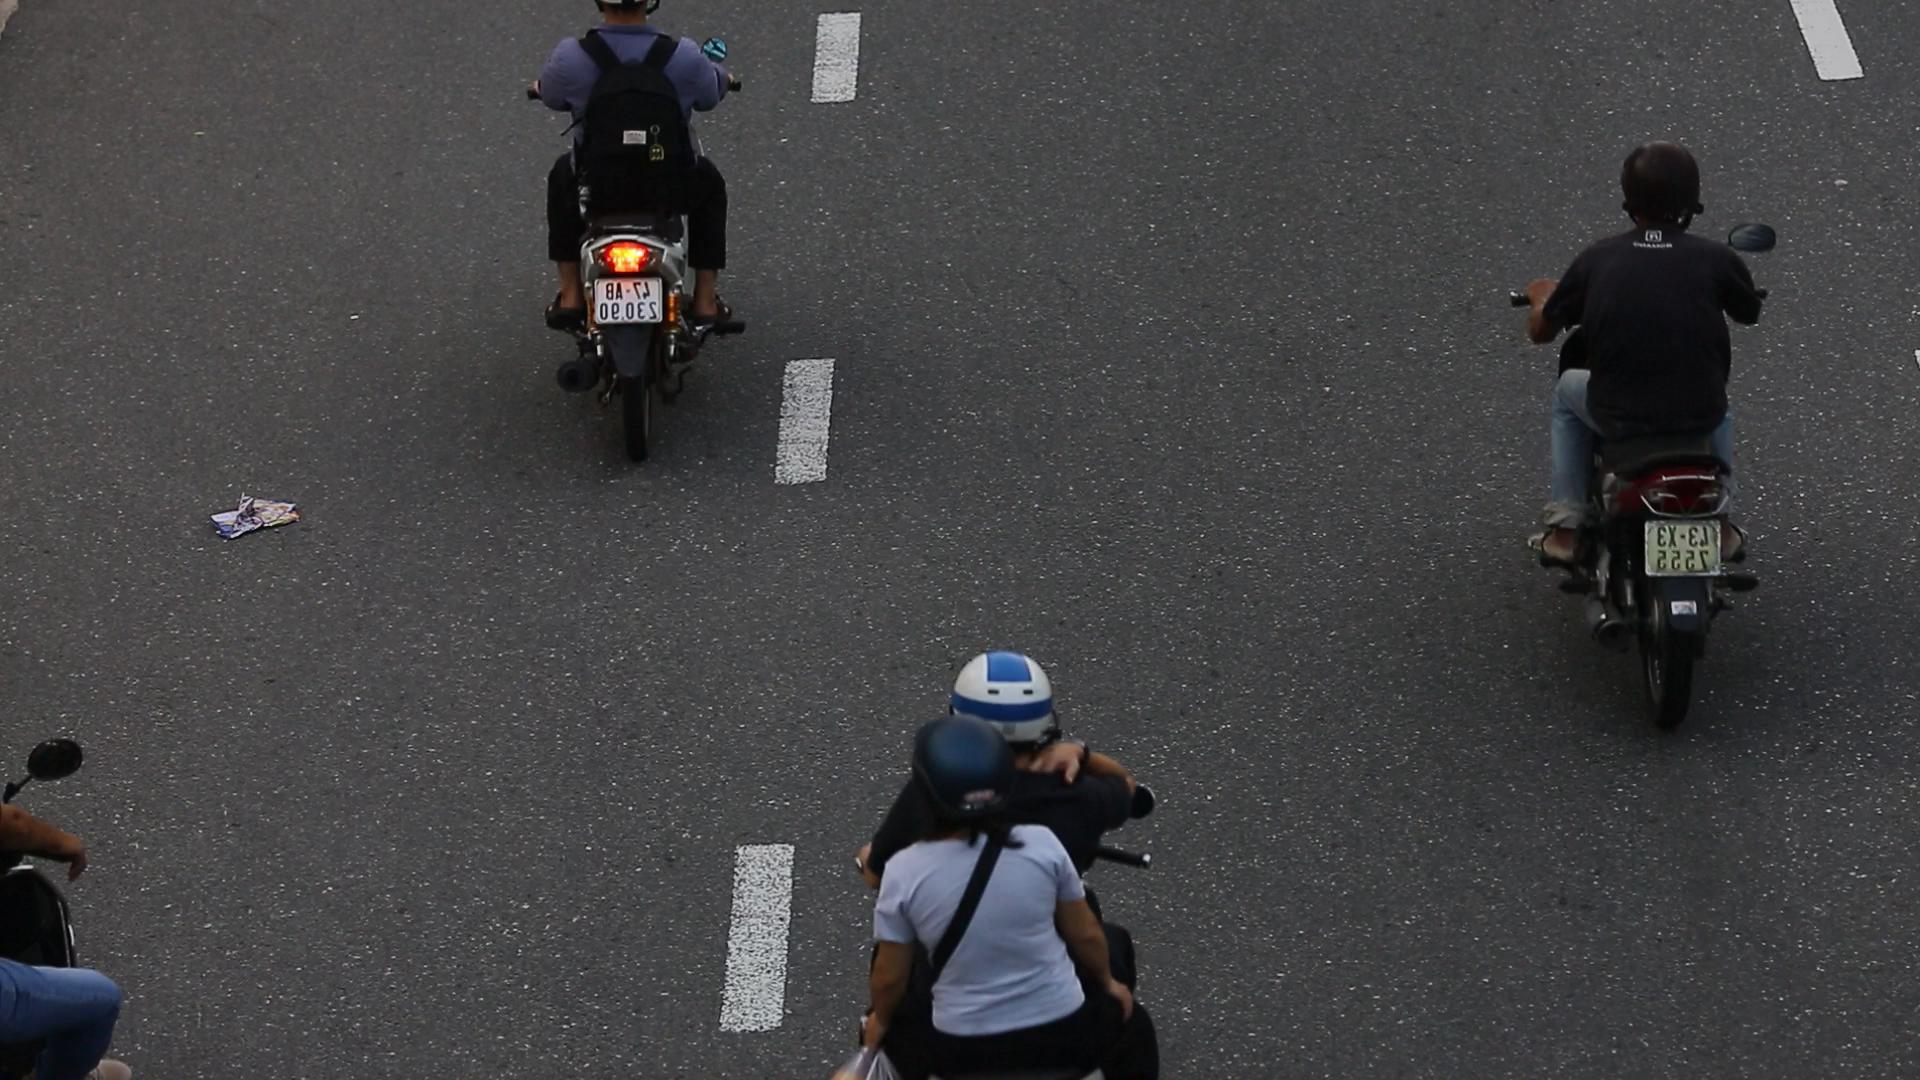motobike: (1499, 132, 1811, 753)
